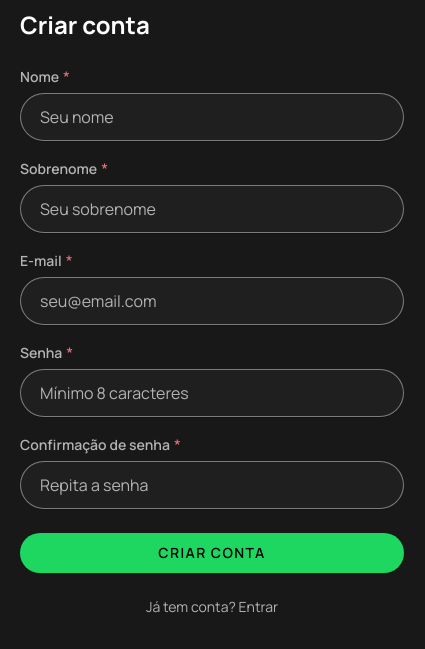
Scenario: RegisterForm › shows "Este e-mail já está em uso." on conflict
This screenshot has width=425, height=649.
In the field labelled "Nome": coordinates (212, 117) [20, 93, 404, 141], type "João"
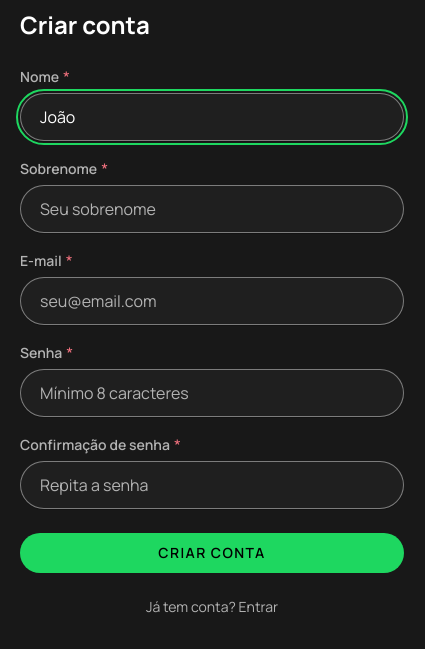
In the field labelled "Sobrenome": coordinates (212, 209) [20, 185, 404, 233], type "Silva"
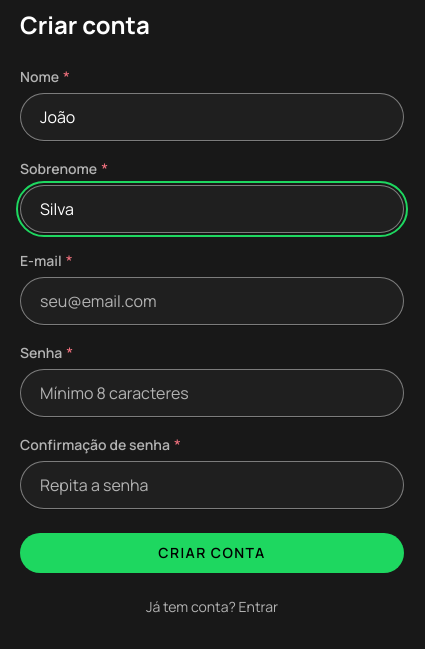
In the field labelled "E-mail": coordinates (212, 301) [20, 277, 404, 325], type "joao@example.com"
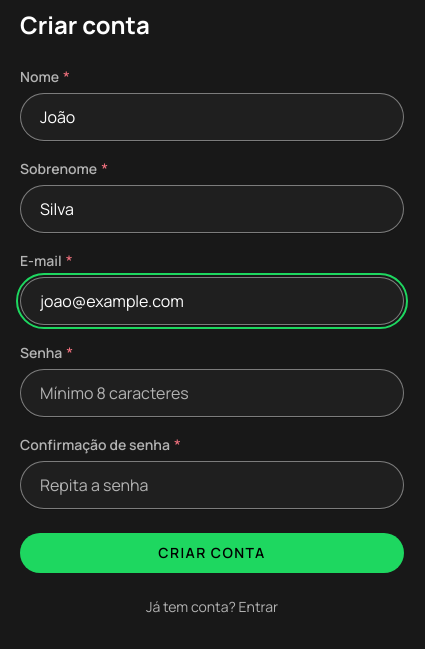
In the password field labelled "Senha": coordinates (212, 393) [20, 369, 404, 417], type "senha123"
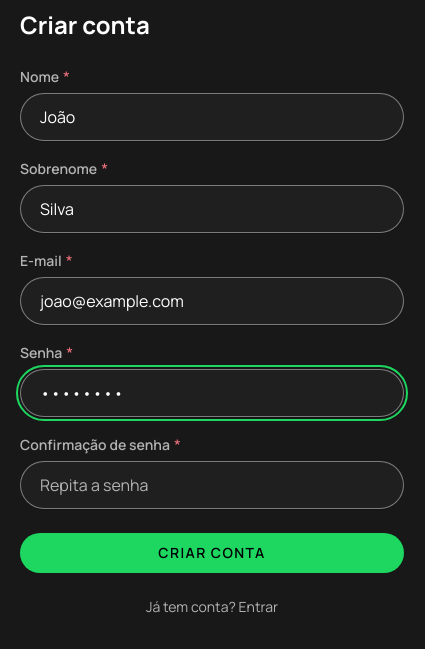
In the password field labelled "Confirmação de senha": coordinates (212, 485) [20, 461, 404, 509], type "senha123"
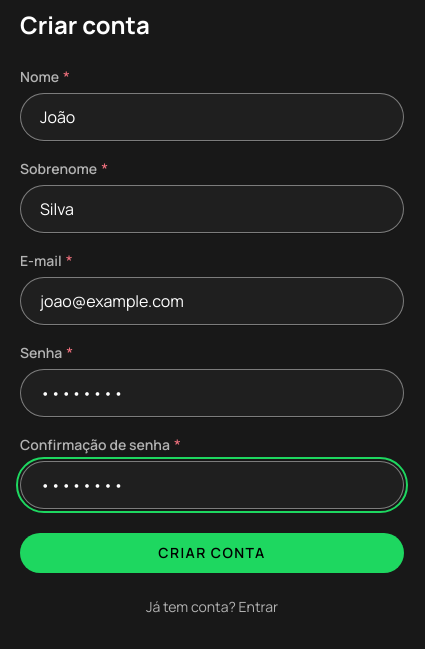
Click the button "Criar conta": coordinates (212, 553) [20, 533, 404, 573]
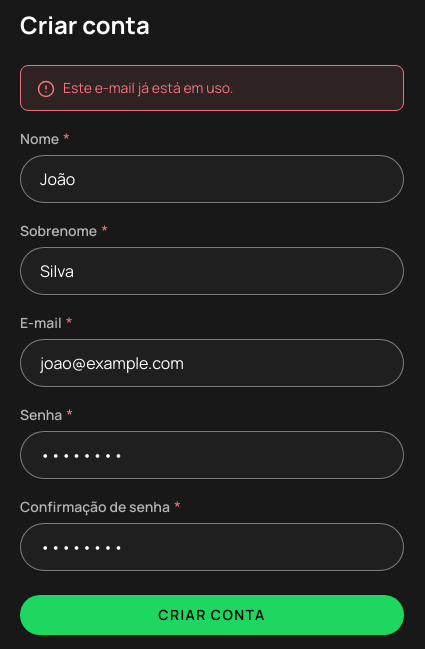
expect the text "Este e-mail já está em uso." is shown: met, box [63, 78, 233, 97]
